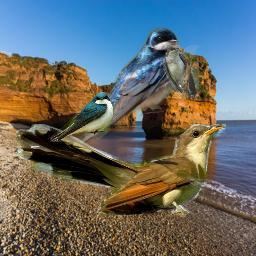Cuckoo: (16, 124, 226, 217)
Swallow: (79, 25, 183, 147), (50, 92, 114, 142), (163, 45, 199, 100)
